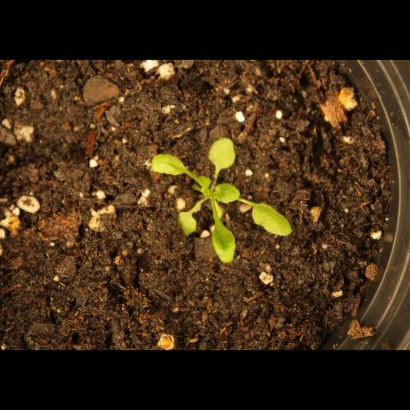leaf: (204, 210, 242, 270), (251, 201, 294, 243), (143, 149, 194, 180), (206, 133, 243, 175), (170, 207, 200, 240), (213, 180, 245, 209)
